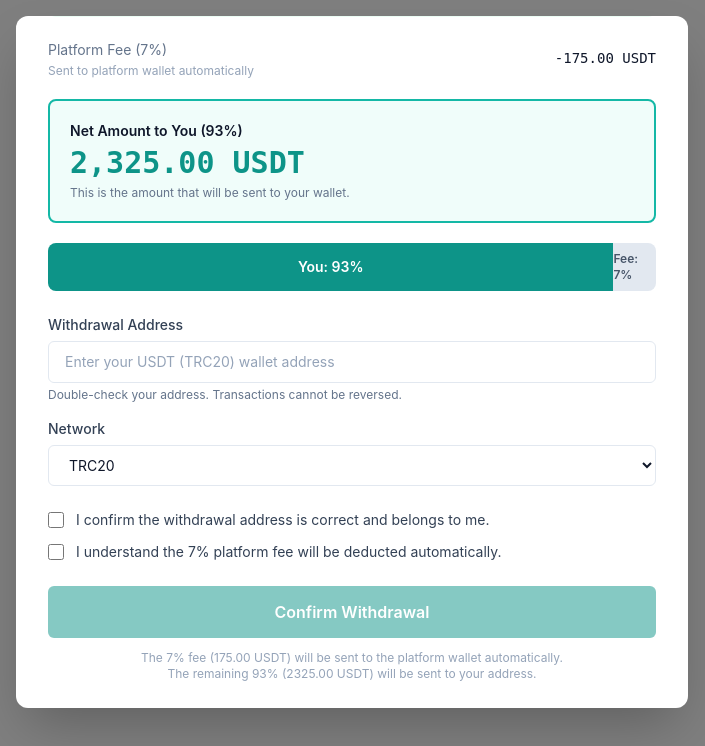
Test: WithdrawModal › confirm button enables when both checkboxes checked and address filled
(page scrolled)
Type "0x1234567890abcdef" into the field with placeholder "Enter your USDT (TRC20) wallet address" at {"x": 352, "y": 362}, box x1=48 y1=341 x2=656 y2=383
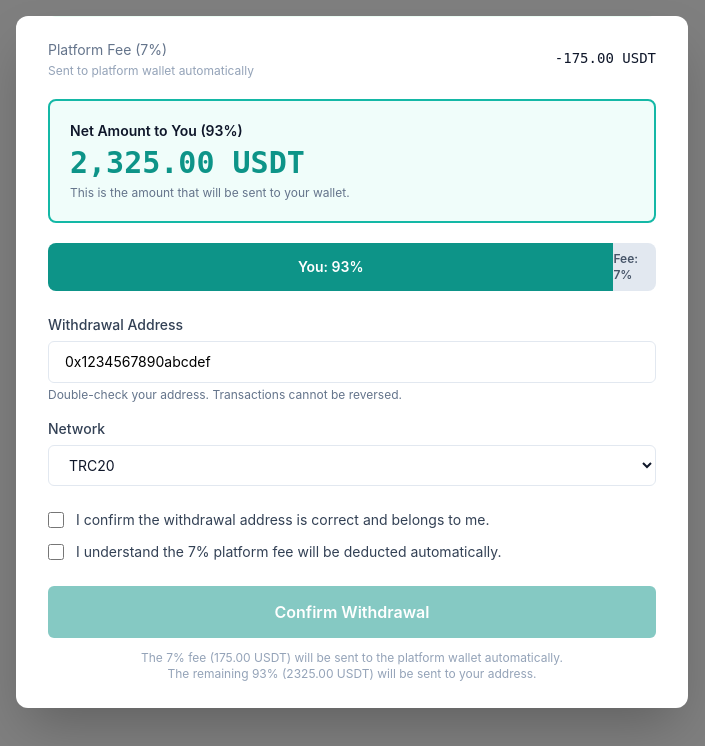
Click the 1st checkbox at {"x": 56, "y": 520}, box x1=48 y1=512 x2=64 y2=528
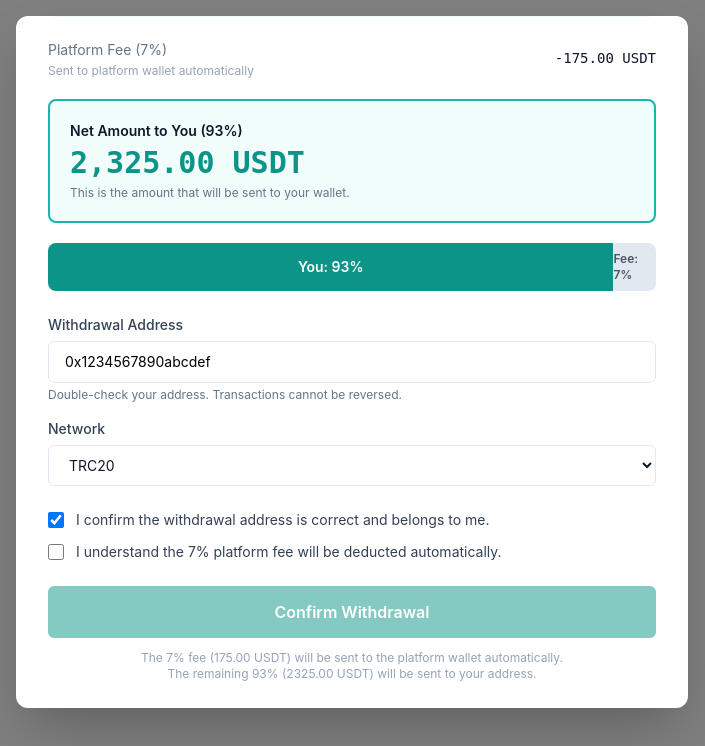
Click the 2nd checkbox at {"x": 56, "y": 552}, box x1=48 y1=544 x2=64 y2=560
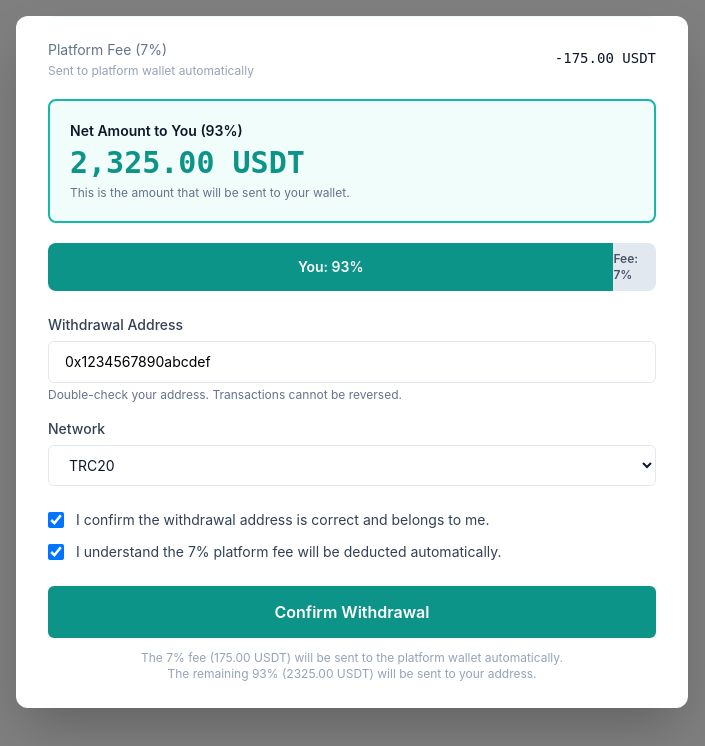
Expected: the button "Confirm Withdrawal" is enabled, x1=48 y1=586 x2=656 y2=638
